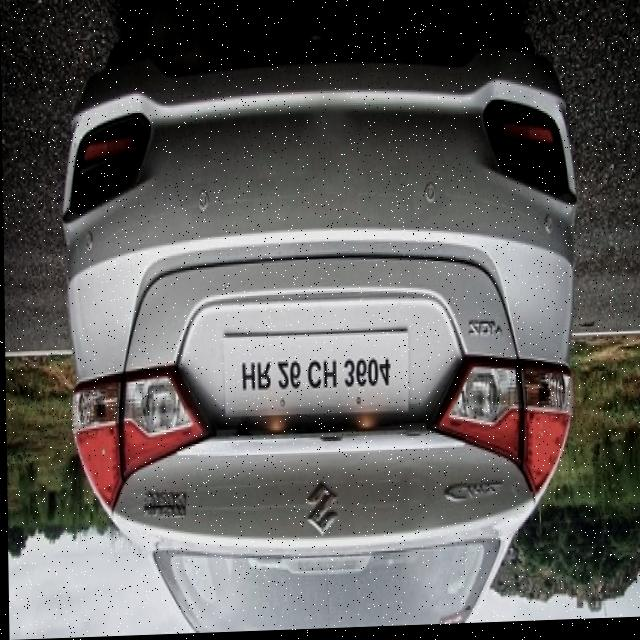plate: (222, 335, 408, 425)
